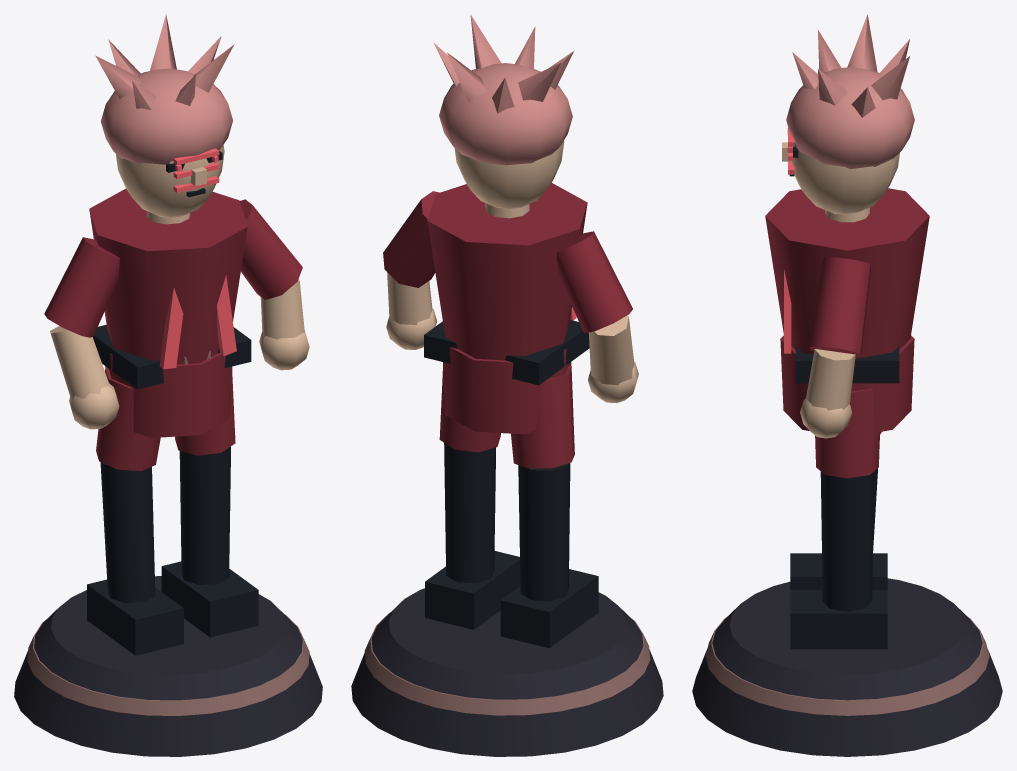
Rendered from sukuna.glb.
3 renders of one model, left to right at view 1: azimuth 30°, elevation 25°; view 2: azimuth 150°, elevation 25°; view 3: azimuth 270°, elevation 25°, orthographic.
Visible parts, largest first — view 1: Placeholder Ryomen Sukuna; view 2: Placeholder Ryomen Sukuna; view 3: Placeholder Ryomen Sukuna.
Boxes of the visible parts, bbox=[...] form: Placeholder Ryomen Sukuna: bbox=[14, 14, 322, 756]; Placeholder Ryomen Sukuna: bbox=[351, 14, 663, 756]; Placeholder Ryomen Sukuna: bbox=[692, 14, 1002, 756].
Bounding box in the file's own units: 0.54 × 1.25 × 0.54.
